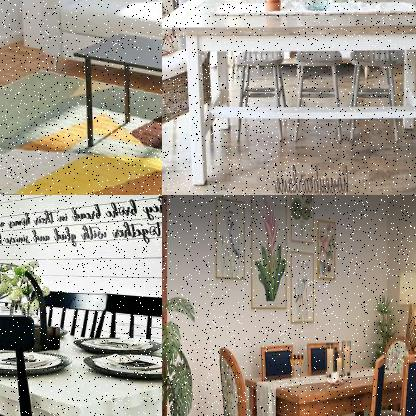table: (162, 0, 415, 186), (0, 304, 161, 415), (69, 26, 161, 188), (242, 358, 415, 415)
